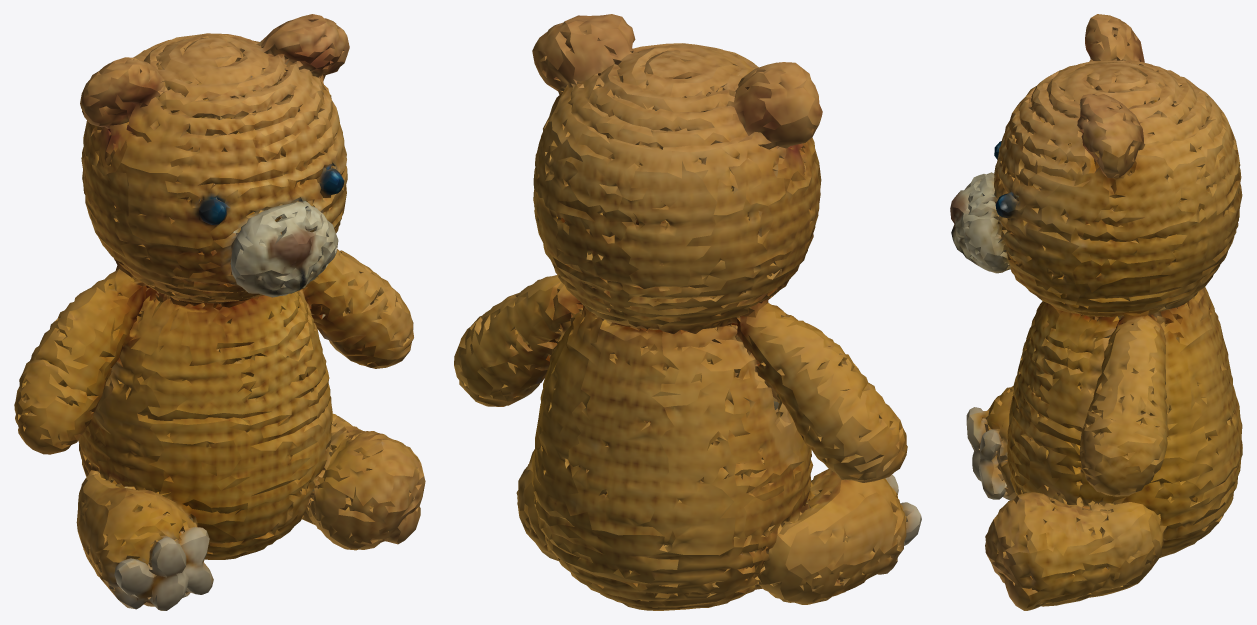
3 views of the same model, side by side, from view 1: azimuth 30°, elevation 25°; view 2: azimuth 150°, elevation 25°; view 3: azimuth 270°, elevation 25° (orthographic). The views are drawn at different scales.
Visible parts, largest first — view 1: geometry_0; view 2: geometry_0; view 3: geometry_0.
Part boxes in pixels (<box>): geometry_0: <box>14,14,425,610</box>; geometry_0: <box>454,14,921,610</box>; geometry_0: <box>950,14,1242,610</box>.
Size of the model in its own units: 0.1807 by 0.22 by 0.1204.
1 material, 1 textured.
